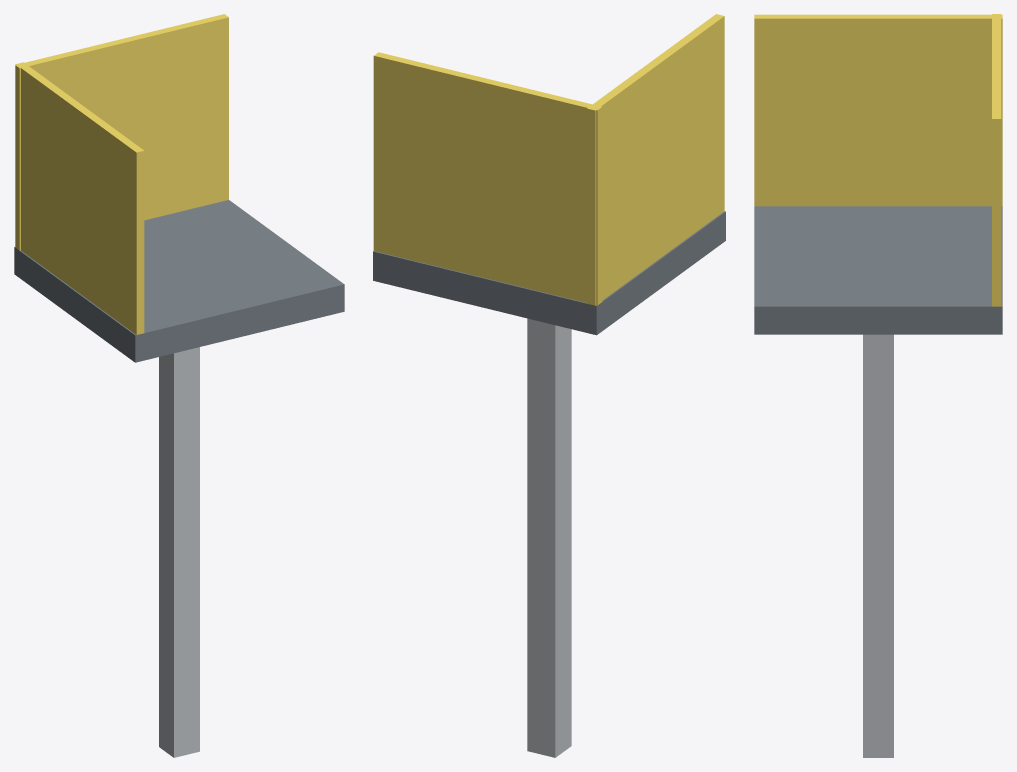
The model's file is mech-hangar-and-battle-frames-gantry-corner-a0d70d91__26925.glb.
3 renders of one model, left to right at view 1: azimuth 30°, elevation 25°; view 2: azimuth 150°, elevation 25°; view 3: azimuth 270°, elevation 25°, orthographic. The views are drawn at different scales.
Visible parts, largest first — view 1: gantry-corner; view 2: gantry-corner; view 3: gantry-corner.
Part boxes in pixels (bbox=[...]): gantry-corner: bbox=[14, 14, 344, 757]; gantry-corner: bbox=[373, 14, 725, 757]; gantry-corner: bbox=[754, 14, 1002, 757].
Size of the model in its own units: 1.2 by 3.65 by 1.2.
